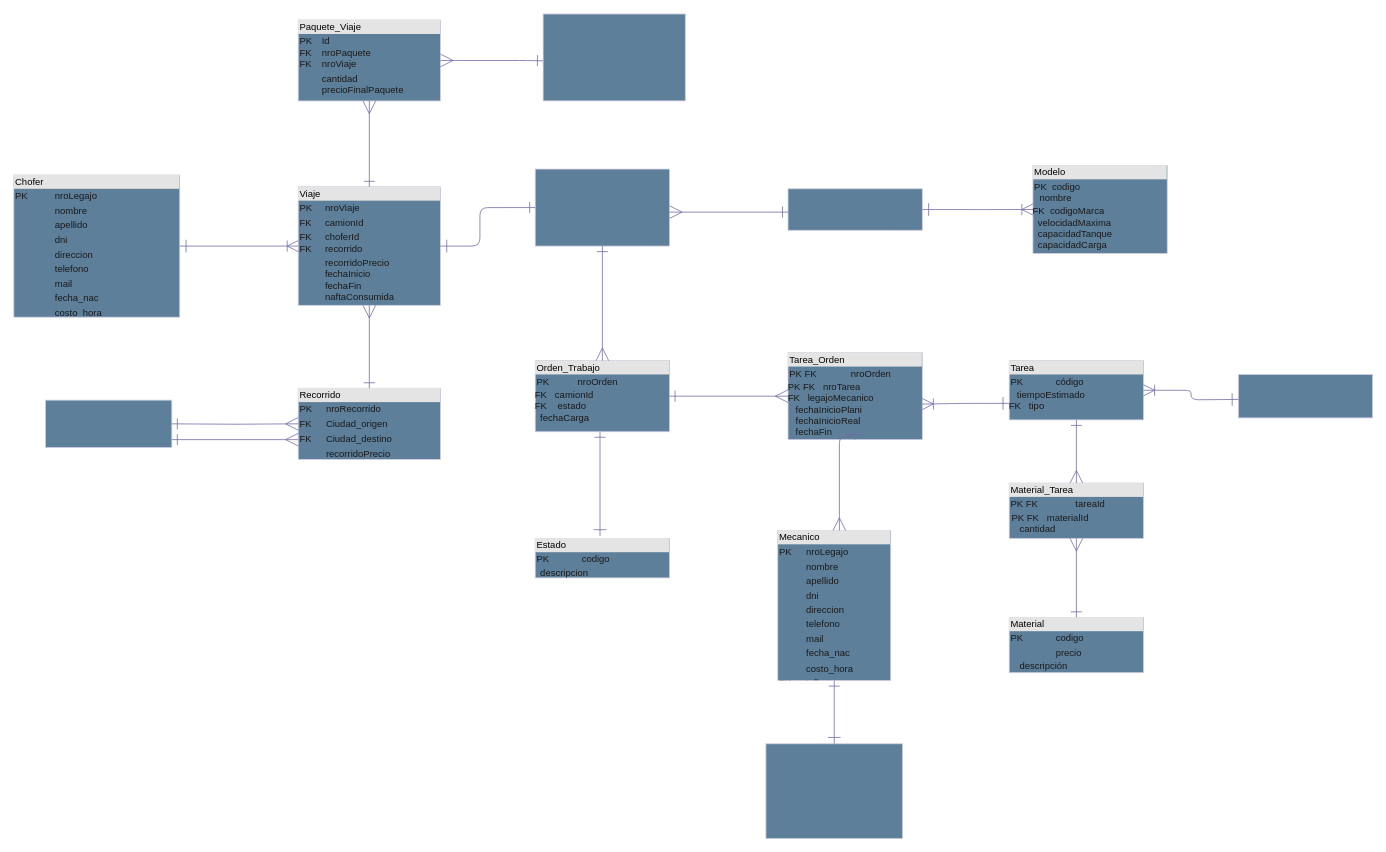
Image size: 1386x852. Some labels were removed from this diagram. The centre of each missing label's shape, as x and y in pixels:
Camion PK patente nroChasis nroMotor fechaAlta FK marca: point 602,207
Ciudad PK codigoCiudad nombre: point 108,423
Marca PK codigo nombre: point 854,209
Taller PK idTaller direccion telefono mail nombre ciudad: point 834,791
Tipo_Paquete PK nroPaquete tipo tlargoMax precioBase pesoMax altoMax: point 613,57
Tipo_Tarea PK codigo descripcion: point 1305,396
